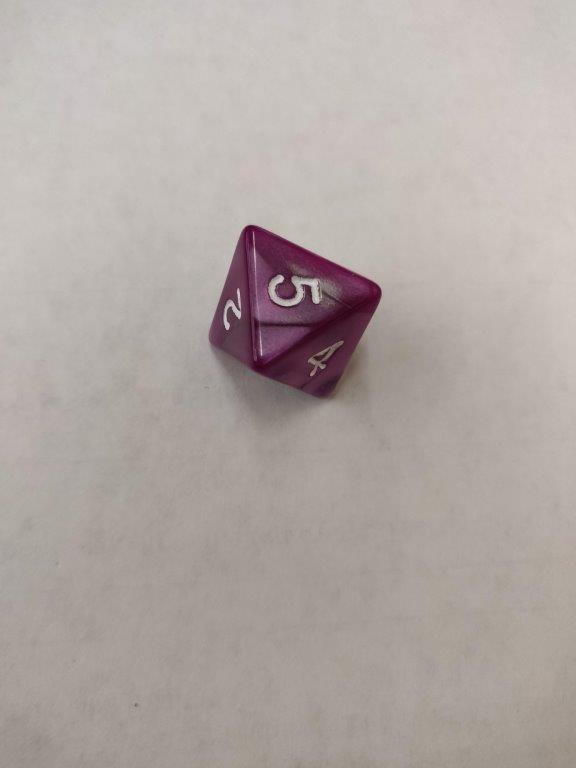d8-5: (206, 223, 385, 401)
